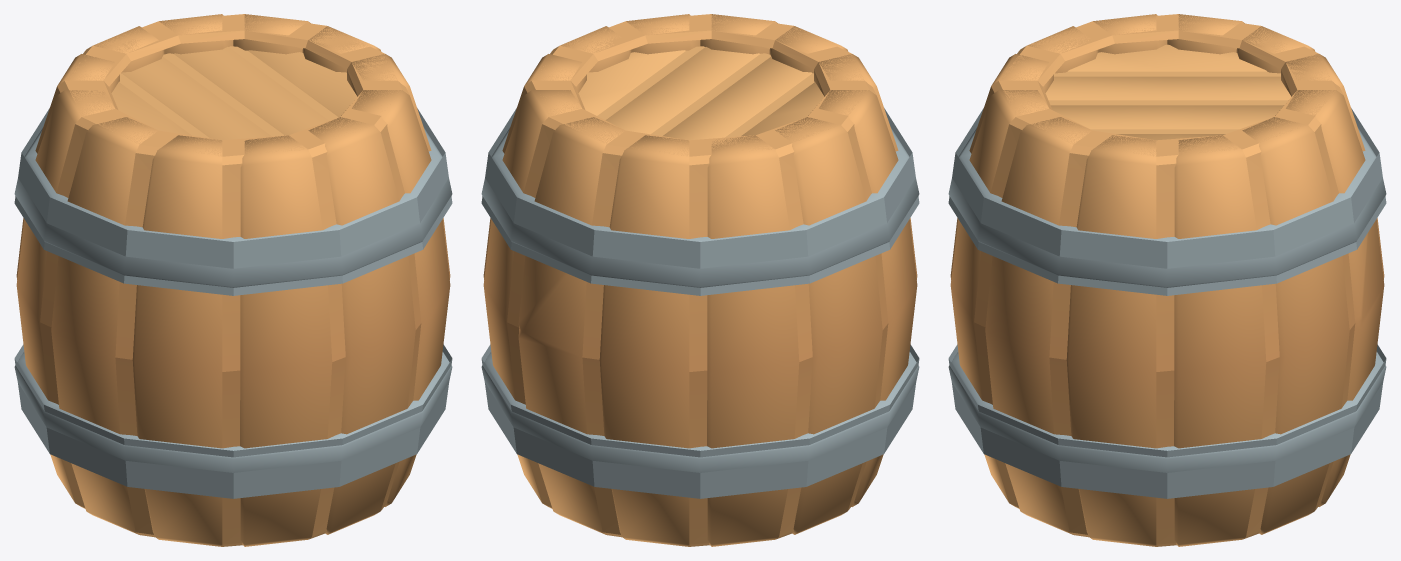
File: barrel.fbx
The picture shows the model from 3 angles, left to right: view 1: azimuth 30°, elevation 25°; view 2: azimuth 150°, elevation 25°; view 3: azimuth 270°, elevation 25°; orthographic projection.
Parts seen in each view (by area): view 1: barrel, barrel low; view 2: barrel, barrel low; view 3: barrel, barrel low.
Boxes of the visible parts, x1=… form: barrel: x1=14, y1=14, x2=452, y2=546; barrel low: x1=14, y1=14, x2=452, y2=546; barrel: x1=481, y1=14, x2=919, y2=546; barrel low: x1=481, y1=14, x2=919, y2=546; barrel: x1=948, y1=14, x2=1386, y2=546; barrel low: x1=948, y1=14, x2=1386, y2=546.
Size of the model in its own units: 123 by 121 by 123.
Materials: 1 (1 with a texture image).
